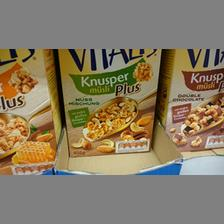Cerealien: (56, 48, 160, 158), (0, 48, 58, 168), (162, 48, 222, 152)
